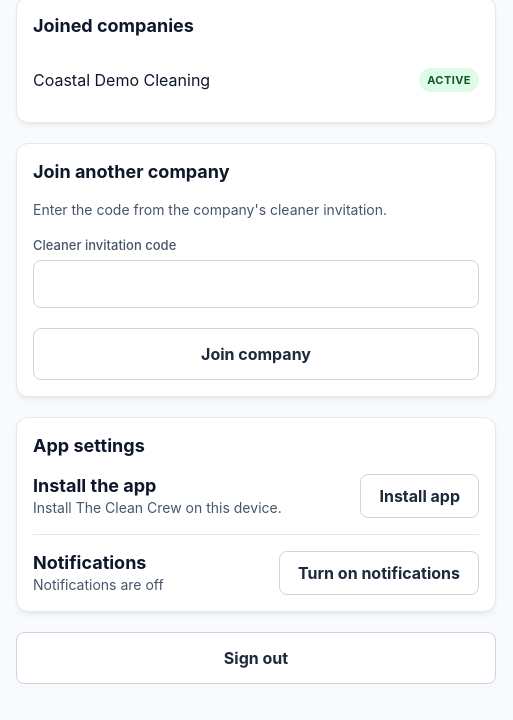
CLE-26 cleaner profile › does not report a browser install dismissal as an error
(page scrolled)
Click the button "Install app": (420, 496) [360,474,479,518]
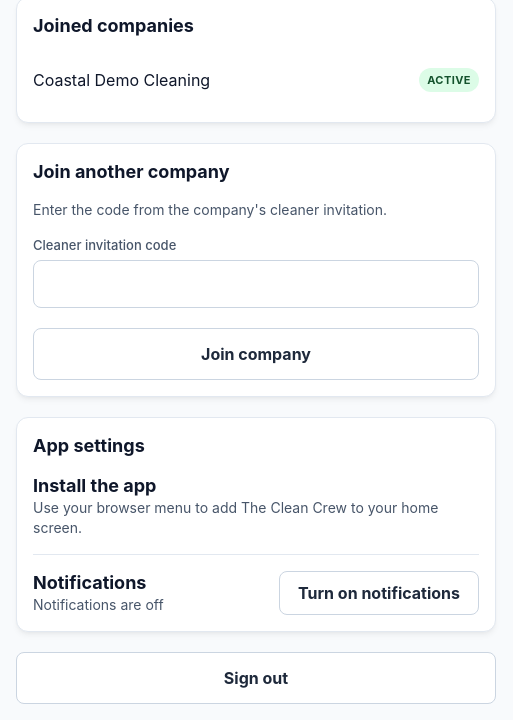
Expected: the button "Install app" is gone
Expected: the text "Use your browser menu" is shown, [33,499,438,536]
